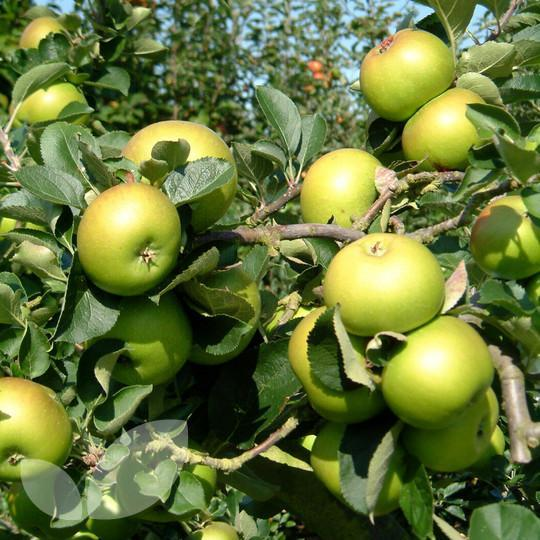apple: (114, 119, 238, 231), (322, 233, 445, 336), (376, 320, 496, 425), (76, 179, 184, 293), (356, 27, 455, 121), (298, 148, 395, 236), (400, 388, 499, 474), (1, 373, 71, 491), (403, 87, 496, 174), (464, 193, 539, 282), (8, 81, 89, 126)
